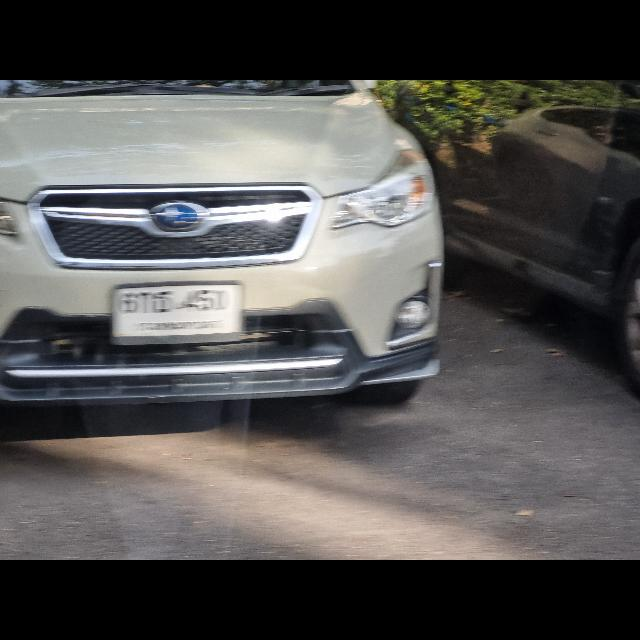licenseplate: (108, 278, 244, 342)
